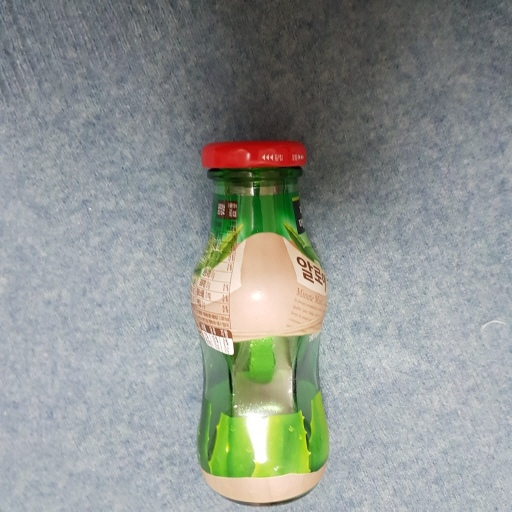Glass_4: (188, 134, 332, 506)
